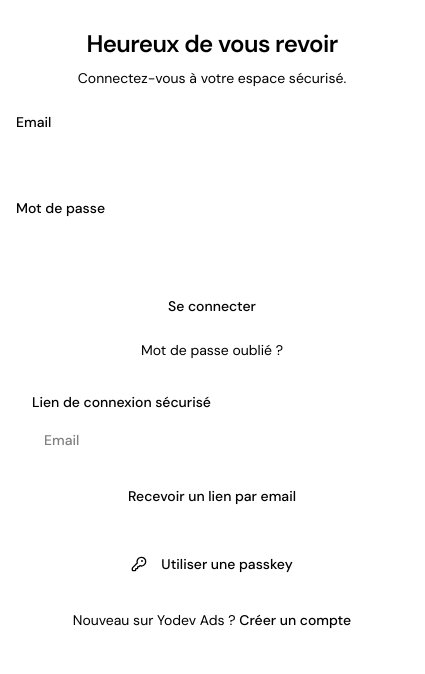
it: recoverable authentication failures › does not treat an interrupted passkey ceremony as a successful login
The width and height of the screenshot is (425, 674).
(page scrolled)
Click the button "Utiliser une passkey": coordinates (212, 564) [16, 542, 408, 586]
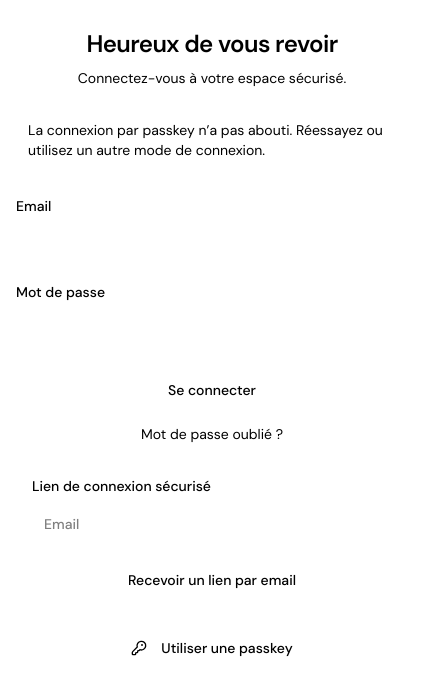
Expected: the message shows "n’a pas abouti", [28, 121, 383, 159]
